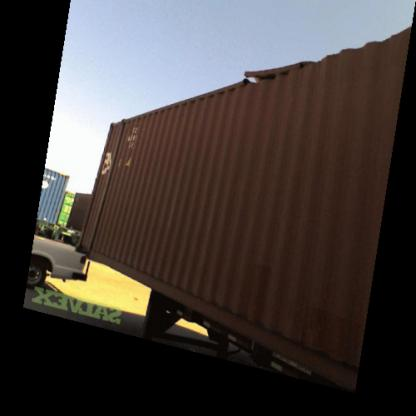Damage: (226, 52, 346, 96), (230, 252, 284, 286)
